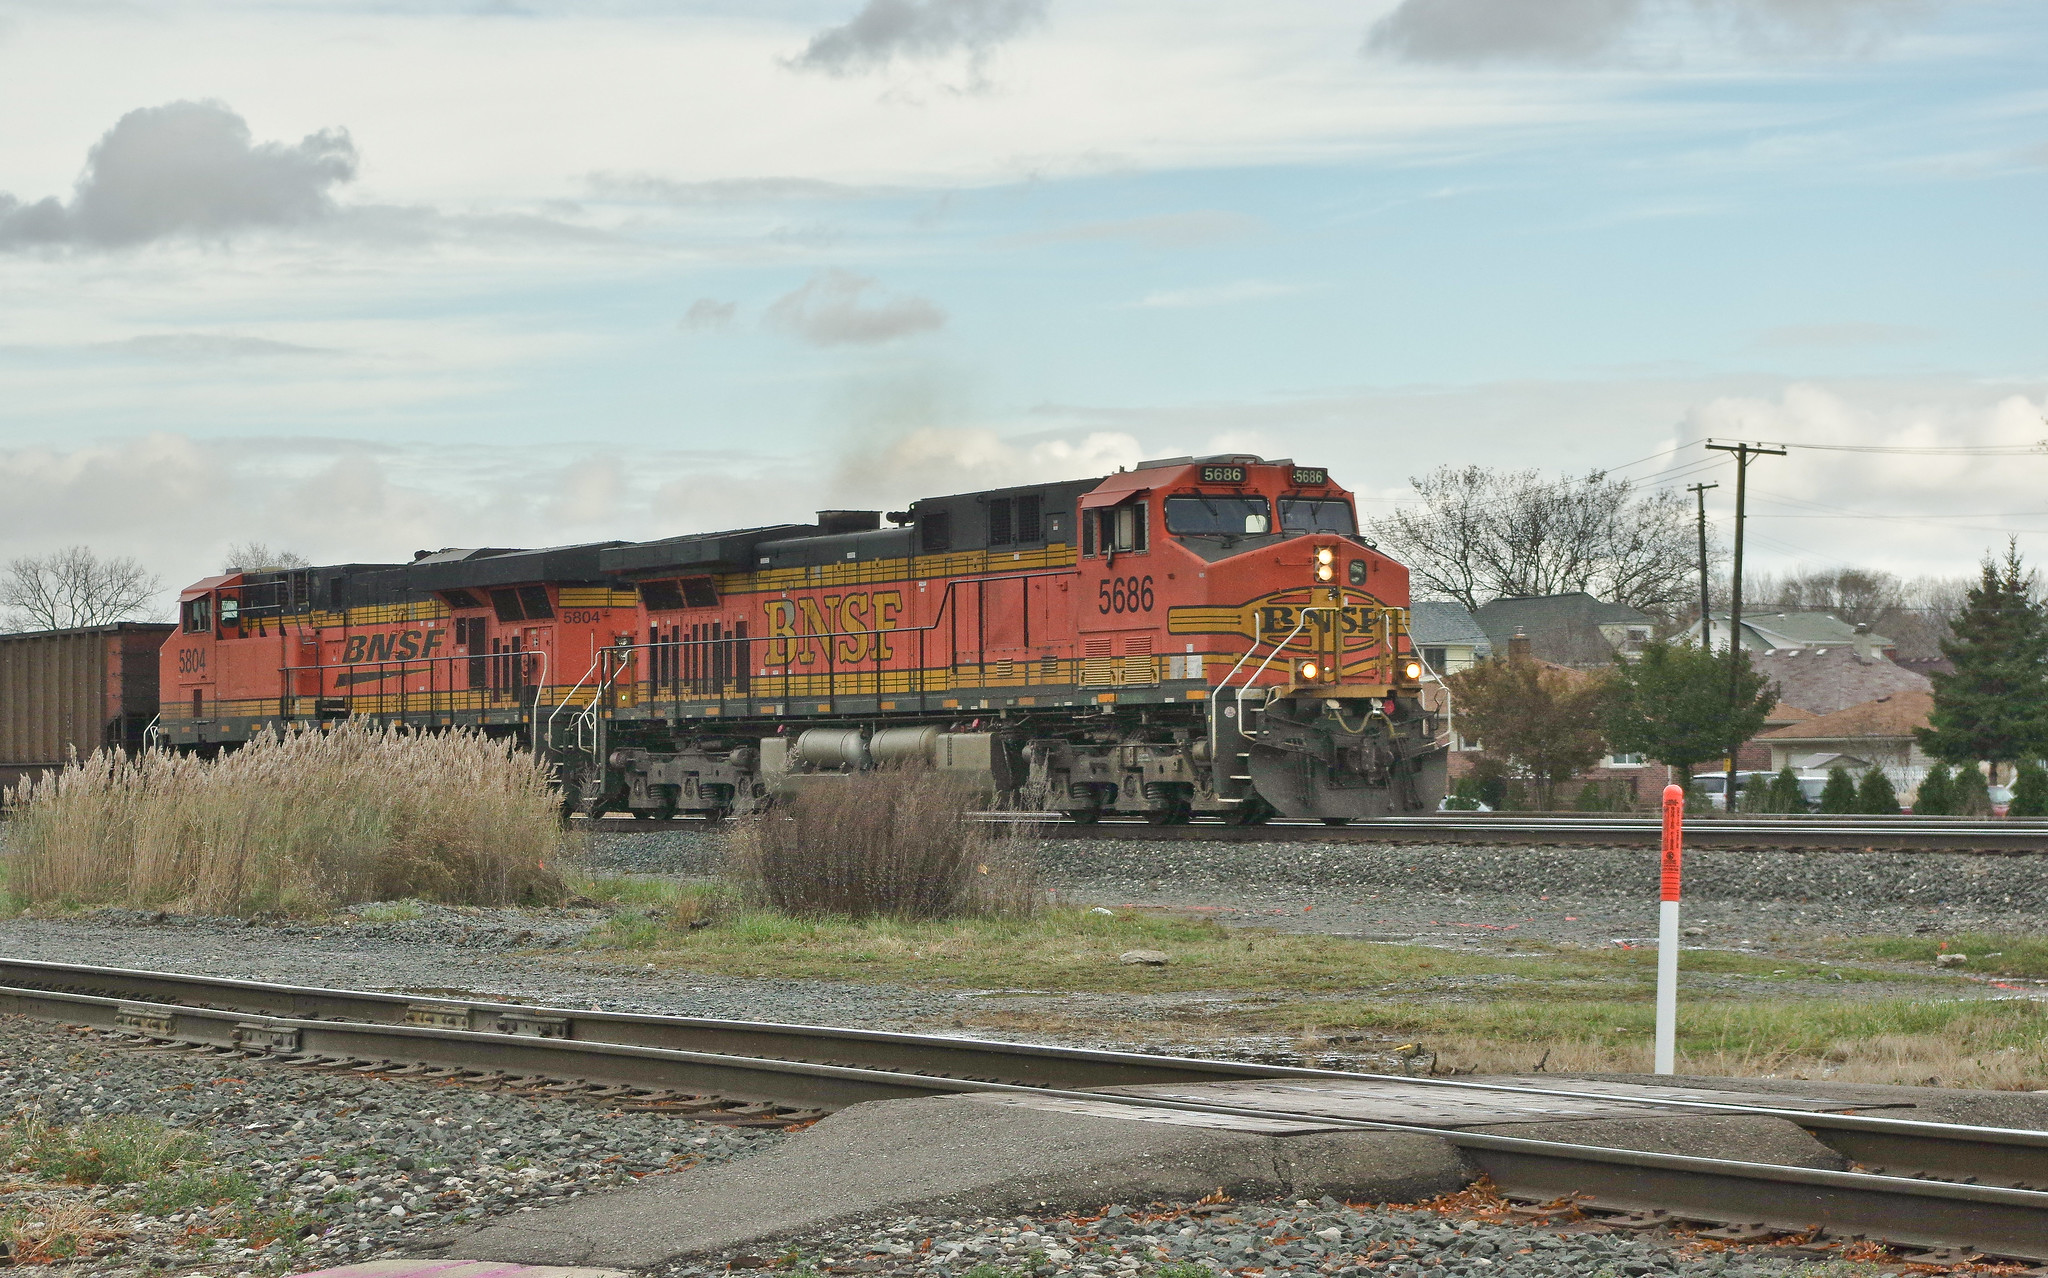train: (1, 448, 1444, 822)
